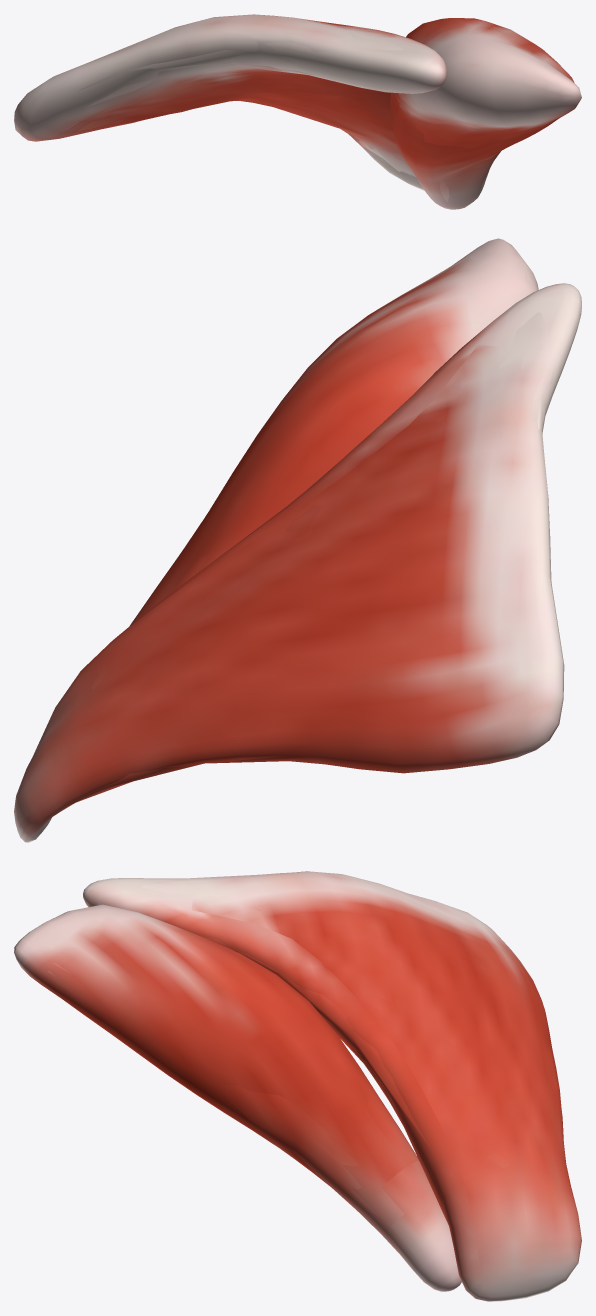
File: L Gluteus Profundus.fbx
3 renders of one model, top to bottom at view 1: azimuth 30°, elevation 25°; view 2: azimuth 150°, elevation 25°; view 3: azimuth 270°, elevation 25°, orthographic. The views are drawn at different scales.
Parts seen in each view (by area): view 1: L Gluteus Profundus, L Gluteus Profundus low; view 2: L Gluteus Profundus, L Gluteus Profundus low; view 3: L Gluteus Profundus, L Gluteus Profundus low.
Boxes of the visible parts, x1,y1,x2,y2 form: L Gluteus Profundus: (14,14,581,209); L Gluteus Profundus low: (62,23,569,202); L Gluteus Profundus: (14,238,581,842); L Gluteus Profundus low: (51,312,556,818); L Gluteus Profundus: (14,871,581,1301); L Gluteus Profundus low: (47,874,527,1262).
Size of the model in its own units: 15.71 by 11.85 by 19.06.
